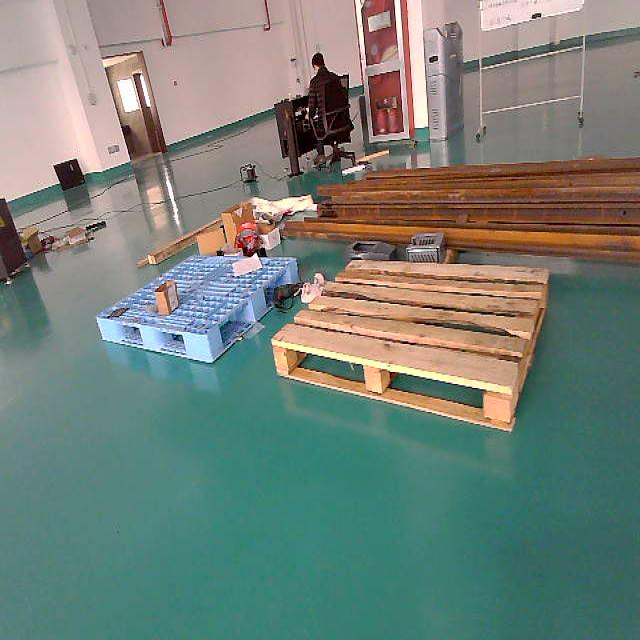euro: (274, 253, 551, 433)
